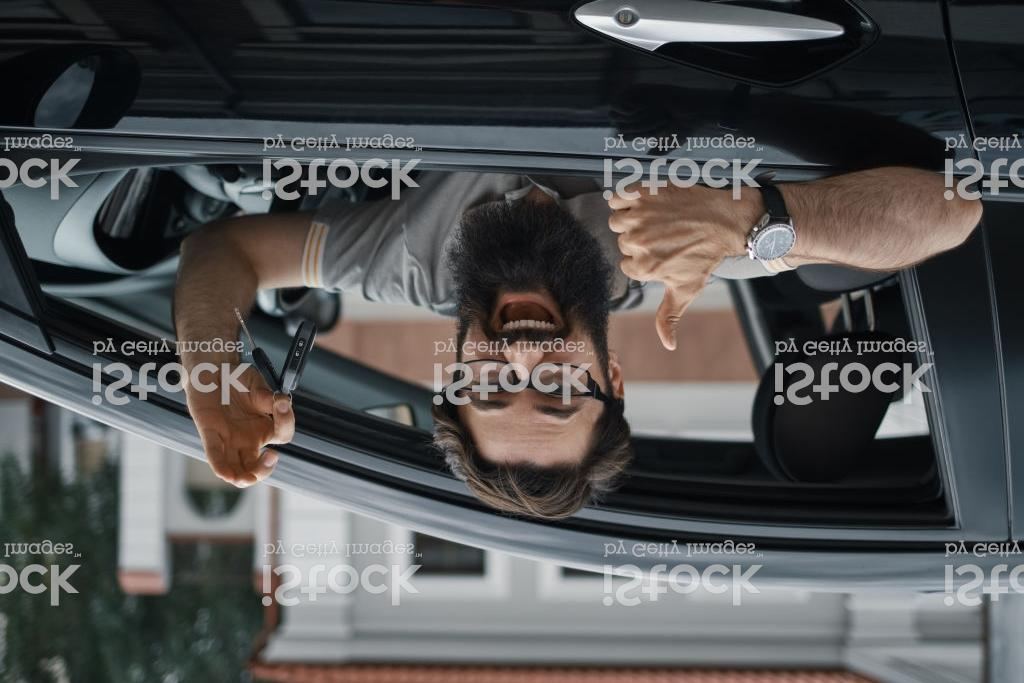thumbsdown: (607, 182, 712, 357)
